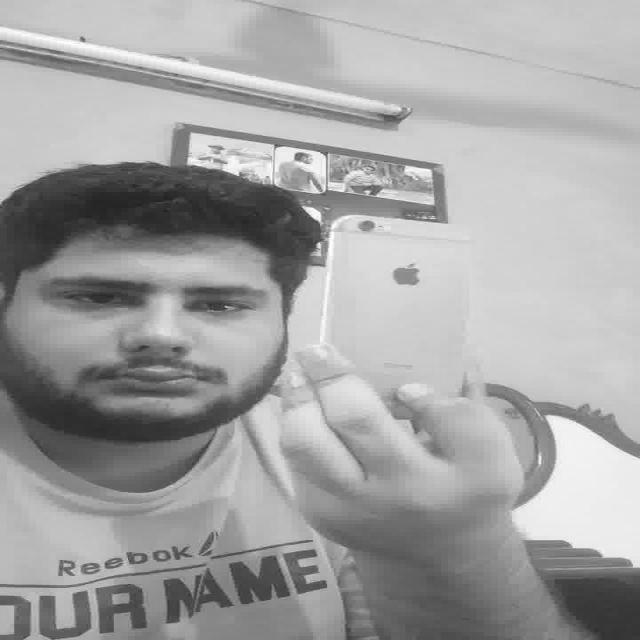fake: (324, 211, 468, 393)
real: (18, 228, 291, 448), (31, 266, 279, 324)
